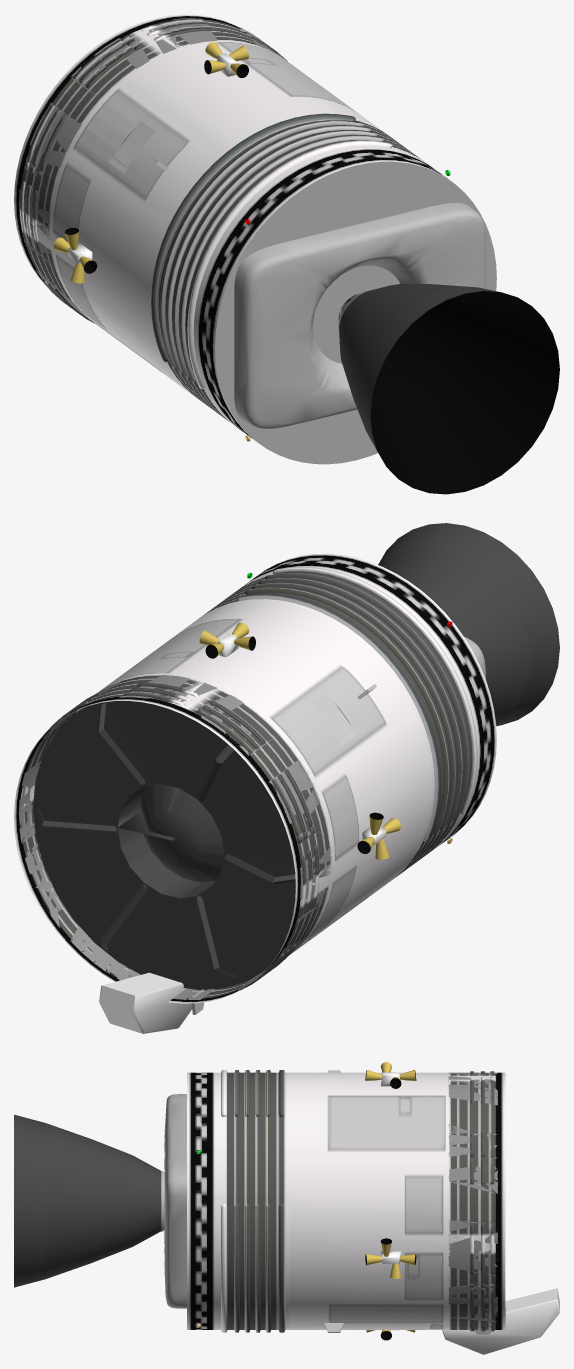
The model's file is nsaturn1_sm.obj.
3 views of the same model, one above another, from view 1: azimuth 30°, elevation 25°; view 2: azimuth 150°, elevation 25°; view 3: azimuth 270°, elevation 25° (orthographic). The views are drawn at different scales.
Parts seen in each view (by area): view 1: group2, group4, group10, group1, group9, group6, group11, group7; view 2: group2, group0, group9, group11, group6, group5, group7; view 3: group2, group9, group11, group4, group6, group5, group7, group3.
Boxes of the visible parts, x1,y1,x2,y2 form: group2: [14, 14, 451, 440]; group4: [234, 203, 485, 428]; group10: [370, 291, 559, 494]; group1: [215, 161, 496, 464]; group9: [338, 284, 460, 428]; group6: [19, 18, 283, 319]; group11: [359, 286, 500, 450]; group7: [53, 42, 248, 283]; group2: [14, 553, 496, 1003]; group0: [33, 701, 295, 989]; group9: [381, 547, 530, 722]; group11: [378, 523, 559, 726]; group6: [19, 675, 331, 999]; group5: [99, 972, 192, 1033]; group7: [199, 622, 400, 859]; group2: [187, 1070, 505, 1332]; group9: [45, 1123, 161, 1278]; group11: [14, 1114, 45, 1287]; group4: [161, 1094, 186, 1308]; group6: [448, 1072, 497, 1329]; group5: [442, 1288, 559, 1354]; group7: [365, 1062, 415, 1333]; group3: [381, 1072, 400, 1330].
Bounding box in the file's own units: 4.44 × 4.68 × 8.36.
12 materials, 1 textured.
